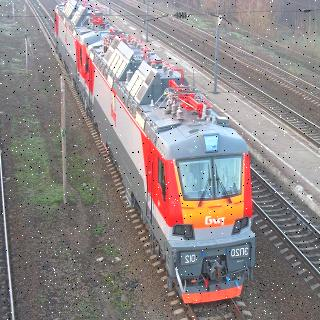poezd: (57, 8, 259, 286)
